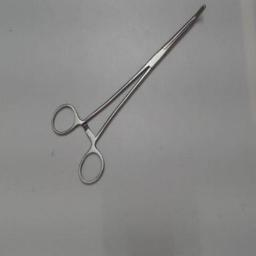Lahey Forceps: (48, 2, 210, 188)
